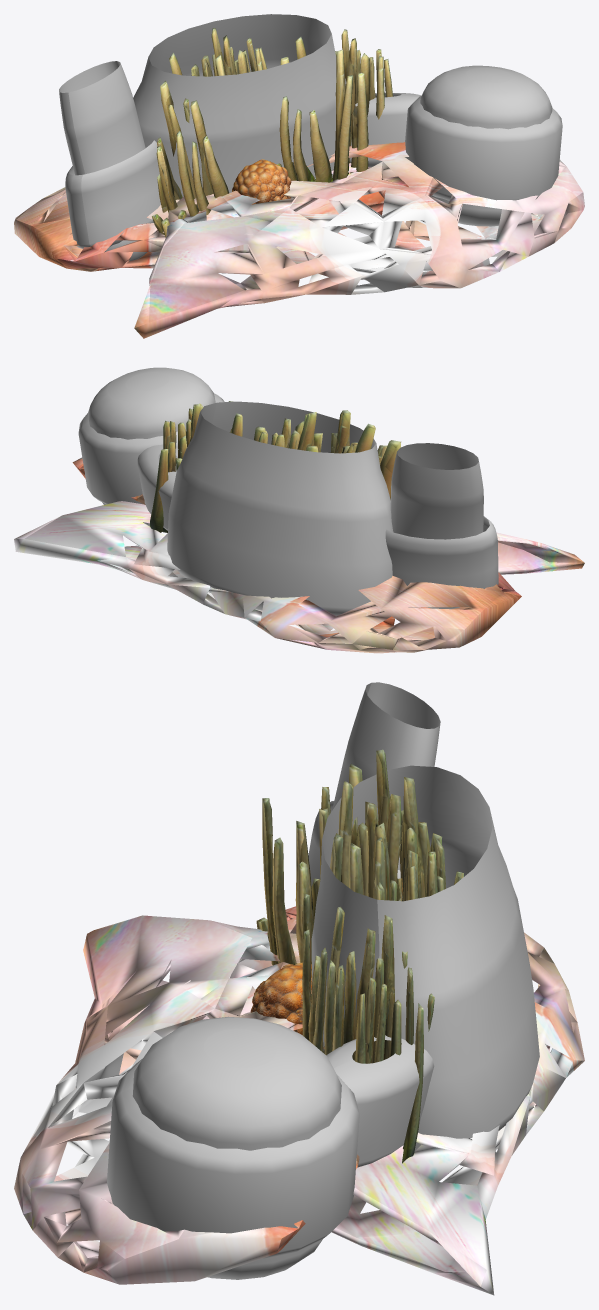
The picture shows the model from 3 angles, top to bottom: view 1: azimuth 30°, elevation 25°; view 2: azimuth 150°, elevation 25°; view 3: azimuth 270°, elevation 25°; orthographic projection. The views are drawn at different scales.
Parts seen in each view (by area): view 1: MSH_Base09_Main, MSH_Base09_Flower.001, MSH_Base09_Coral, MSH_Base09_Flower.002, MSH_Base09_Flower.010, MSH_Base09_Flower.007, MSH_Base09_Flower.005, MSH_Base09_Flower, MSH_Base09_Coral.001, MSH_Base09_Flower.008; view 2: MSH_Base09_Flower.001, MSH_Base09_Main, MSH_Base09_Flower.010, MSH_Base09_Flower.007, MSH_Base09_Coral, MSH_Base09_Flower.005, MSH_Base09_Flower.002, MSH_Base09_Flower, MSH_Base09_Flower.008; view 3: MSH_Base09_Main, MSH_Base09_Flower.001, MSH_Base09_Coral, MSH_Base09_Flower.002, MSH_Base09_Flower.007, MSH_Base09_Flower, MSH_Base09_Flower.010, MSH_Base09_Coral.001, MSH_Base09_Flower.008.
Part boxes in pixels (x1,y1,x2,y2): MSH_Base09_Main: [14, 142, 584, 338]; MSH_Base09_Flower.001: [133, 14, 346, 198]; MSH_Base09_Coral: [152, 28, 392, 237]; MSH_Base09_Flower.002: [405, 96, 562, 200]; MSH_Base09_Flower.010: [59, 61, 147, 261]; MSH_Base09_Flower.007: [420, 65, 552, 226]; MSH_Base09_Flower.005: [65, 140, 160, 248]; MSH_Base09_Flower: [349, 93, 421, 167]; MSH_Base09_Coral.001: [232, 159, 291, 204]; MSH_Base09_Flower.008: [466, 68, 511, 82]; MSH_Base09_Flower.001: [167, 401, 393, 615]; MSH_Base09_Main: [14, 457, 584, 653]; MSH_Base09_Flower.010: [390, 443, 483, 609]; MSH_Base09_Flower.007: [87, 367, 215, 526]; MSH_Base09_Coral: [150, 401, 400, 532]; MSH_Base09_Flower.005: [385, 516, 498, 588]; MSH_Base09_Flower.002: [78, 393, 224, 504]; MSH_Base09_Flower: [137, 444, 178, 530]; MSH_Base09_Flower.008: [125, 372, 169, 391]; MSH_Base09_Main: [14, 906, 584, 1295]; MSH_Base09_Flower.001: [311, 765, 539, 1151]; MSH_Base09_Coral: [256, 749, 463, 1163]; MSH_Base09_Flower.002: [107, 1058, 359, 1258]; MSH_Base09_Flower.007: [132, 1016, 341, 1279]; MSH_Base09_Flower: [326, 1035, 434, 1167]; MSH_Base09_Flower.010: [332, 682, 440, 870]; MSH_Base09_Coral.001: [250, 962, 311, 1034]; MSH_Base09_Flower.008: [204, 1028, 276, 1068].
Bounding box in the file's own units: 1977 × 830 × 1306.
